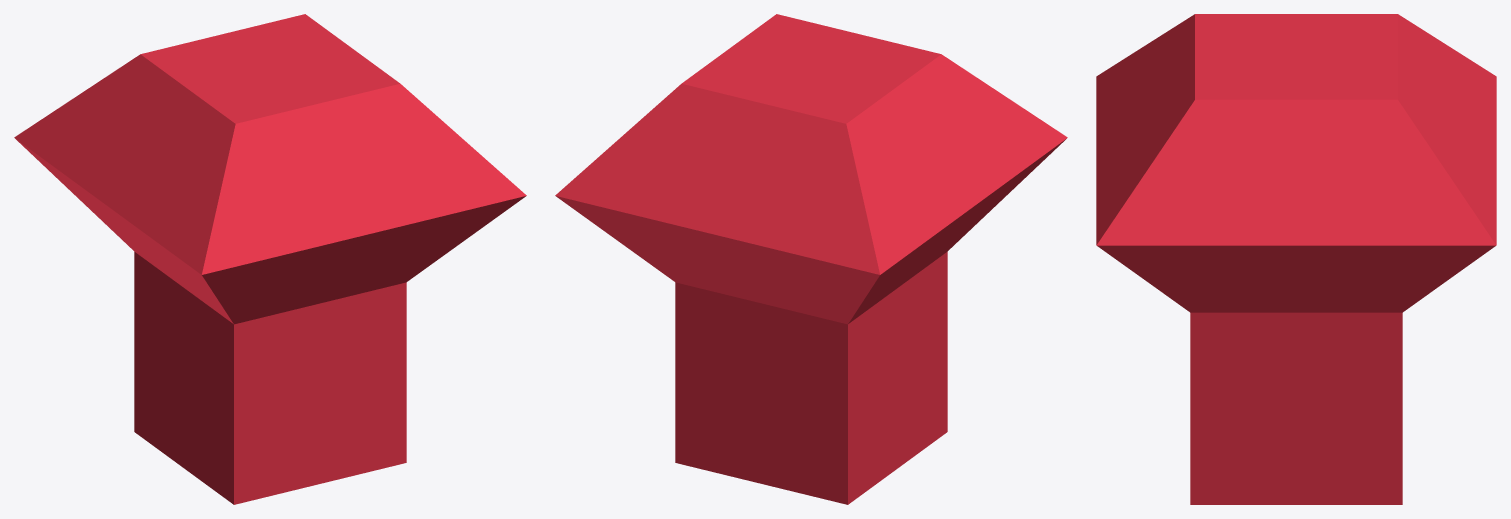
3 views of the same model, side by side, from view 1: azimuth 30°, elevation 25°; view 2: azimuth 150°, elevation 25°; view 3: azimuth 270°, elevation 25° (orthographic). The views are drawn at different scales.
Visible parts, largest first — view 1: Cube; view 2: Cube; view 3: Cube.
Boxes of the visible parts, x1,y1,x2,y2 form: Cube: (14,14,526,504); Cube: (555,14,1067,504); Cube: (1096,14,1496,504).
Bounding box in the file's own units: 3.77 × 4.19 × 3.77.
